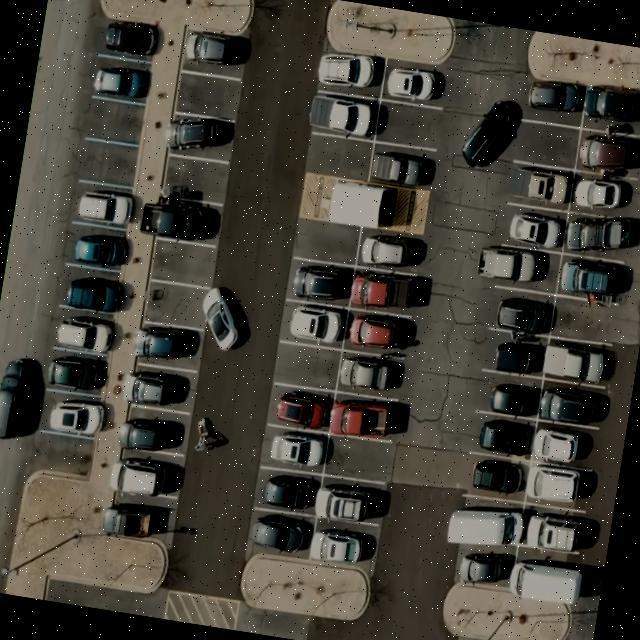space-empty: (136, 147, 228, 207), (548, 294, 621, 348), (171, 68, 243, 122), (323, 434, 397, 486), (374, 99, 446, 152), (140, 278, 208, 333), (272, 341, 342, 394), (510, 118, 580, 171), (292, 214, 362, 267), (146, 237, 216, 290), (72, 136, 142, 188), (308, 132, 376, 184), (81, 96, 146, 148), (30, 428, 91, 477)
space-occupied: (446, 496, 524, 557), (141, 190, 223, 248), (479, 241, 562, 296), (518, 504, 592, 564), (105, 488, 178, 548), (354, 224, 429, 282), (552, 252, 624, 312), (336, 346, 411, 402), (309, 88, 380, 146), (540, 333, 614, 388), (502, 160, 574, 216), (178, 24, 250, 80), (523, 460, 595, 516), (329, 391, 403, 445), (56, 266, 130, 320), (278, 297, 349, 353), (50, 306, 120, 362), (566, 168, 636, 224), (316, 474, 388, 528), (118, 404, 190, 458), (512, 547, 584, 601), (165, 110, 235, 165), (109, 450, 183, 502), (560, 212, 633, 264), (62, 222, 132, 276), (316, 48, 386, 102), (37, 391, 107, 444), (70, 180, 140, 233), (536, 376, 606, 429), (286, 256, 354, 310), (246, 506, 314, 560), (572, 128, 640, 182), (309, 518, 379, 570), (378, 61, 449, 112), (261, 424, 330, 476), (266, 384, 336, 435), (498, 203, 568, 254), (124, 362, 194, 413), (466, 411, 536, 462), (342, 312, 417, 359), (522, 72, 586, 127), (489, 286, 554, 340), (368, 141, 434, 194), (88, 54, 154, 106), (464, 452, 530, 504), (448, 542, 514, 594), (580, 80, 640, 137), (253, 466, 320, 516), (476, 370, 544, 419), (134, 319, 202, 368), (530, 419, 596, 469), (44, 348, 110, 396), (348, 268, 414, 316), (483, 329, 547, 378), (98, 16, 158, 62)
